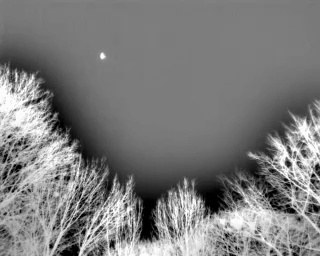BIRD: (98, 50, 109, 63)
